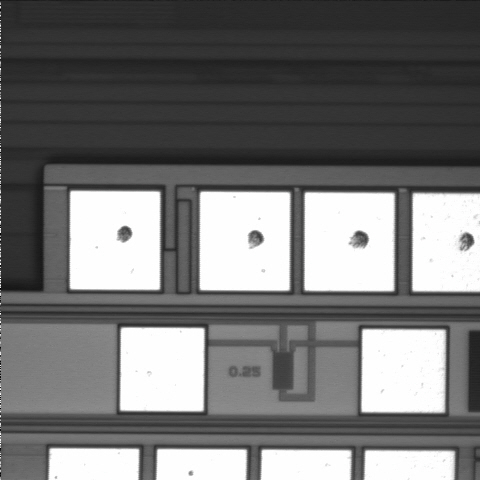pad: (70, 191, 160, 290), (200, 192, 290, 291), (305, 193, 394, 291), (120, 328, 204, 411), (362, 329, 445, 412)
